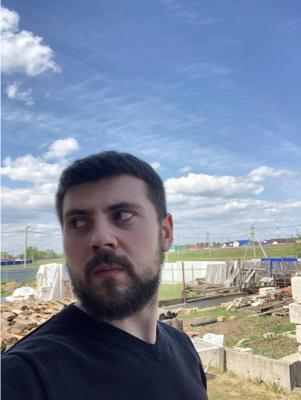without_mask: (62, 192, 149, 319)
